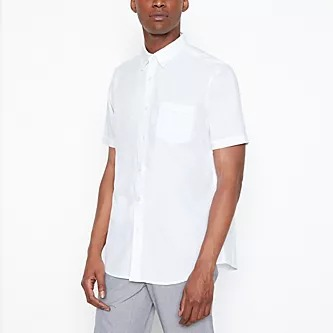C_shirt: (103, 41, 251, 289)
